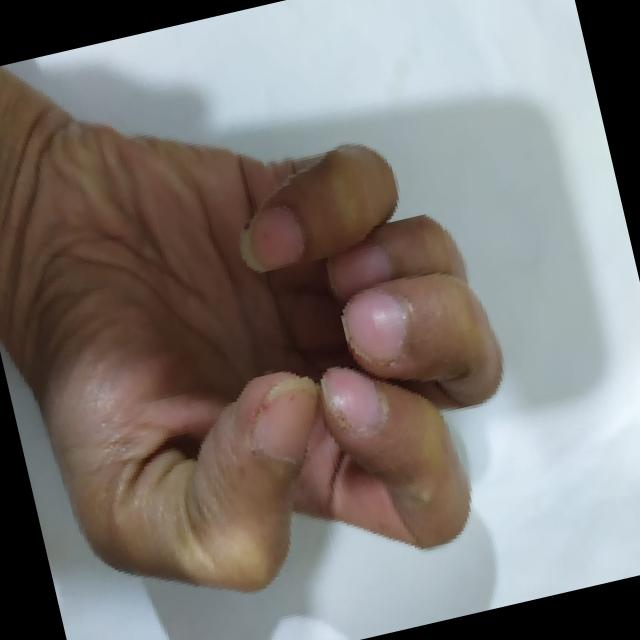Nail: (249, 374, 317, 464), (341, 288, 408, 362), (320, 368, 387, 436), (239, 205, 304, 271), (326, 242, 391, 299)
